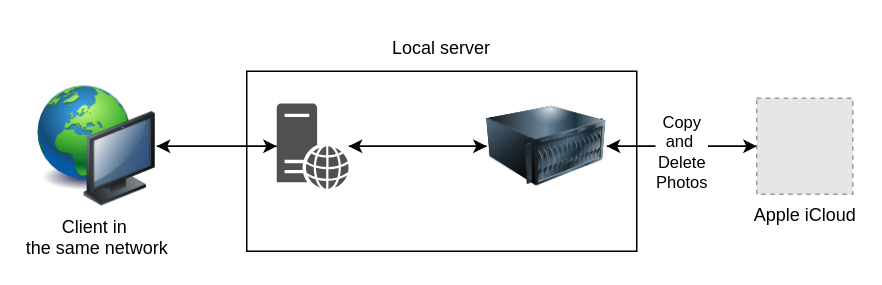
Image size: 882x285. Some labels were removed from this diagram. Grey dashed boxes stand in for pictures. Here are the shapes that lost their labels. From the top down, the centre of each, then its label:
the point at 312,145: Web server
the point at 546,146: Server
